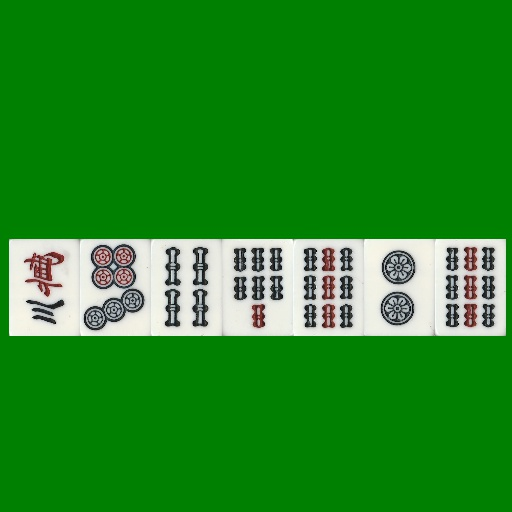2p: (364, 239, 435, 336)
3m: (9, 239, 80, 336)
4s: (151, 239, 222, 336)
7p: (80, 239, 151, 336)
7s: (222, 239, 293, 336)
9s: (293, 239, 364, 336), (435, 239, 506, 336)
